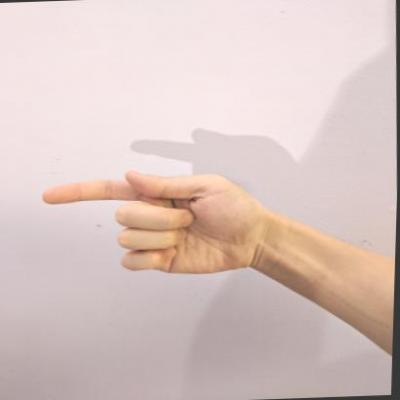hand: (36, 162, 273, 284)
